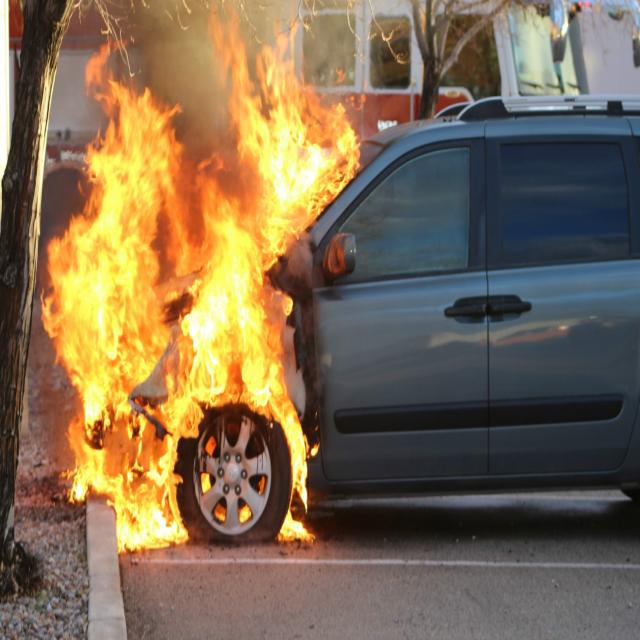fire: (60, 79, 312, 543), (314, 62, 354, 197)
